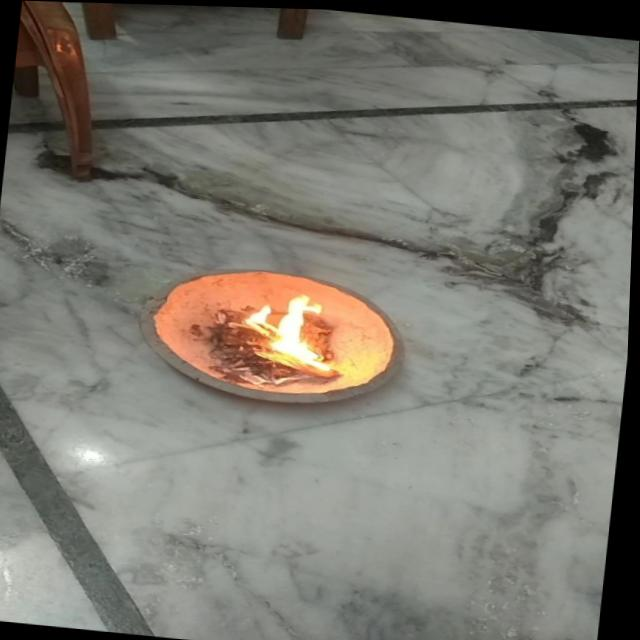fire: (229, 283, 346, 374)
